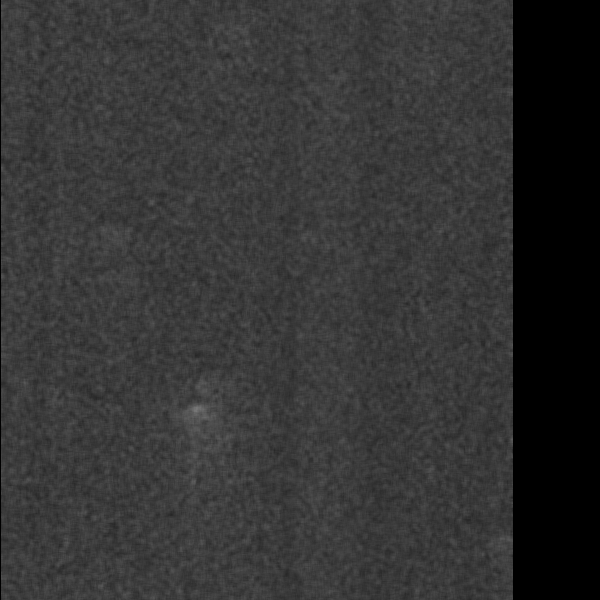spark: (235, 448, 322, 575), (311, 61, 413, 140), (15, 84, 80, 177), (182, 24, 262, 52), (70, 368, 107, 408), (340, 183, 390, 205), (111, 577, 154, 591)
